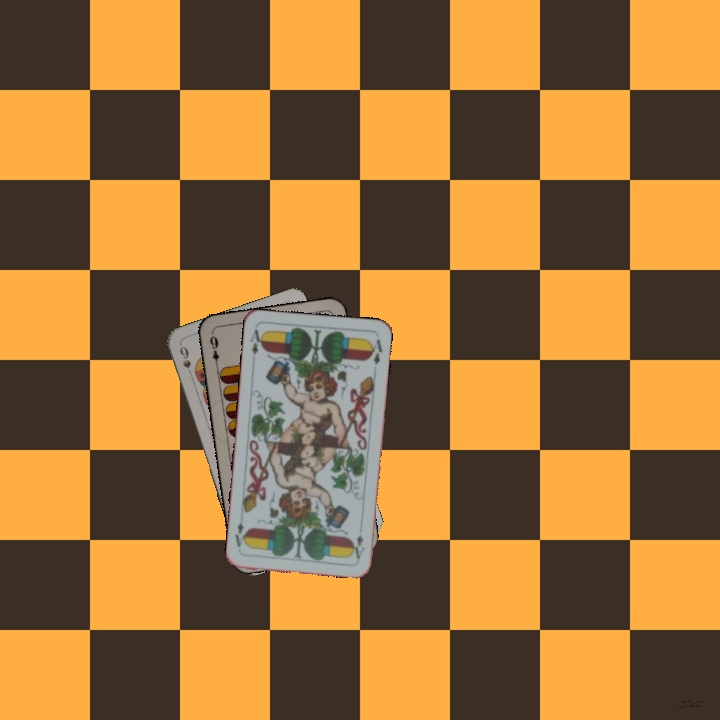E9: (205, 330, 221, 370)
EA: (246, 325, 266, 358), (350, 531, 367, 562)
S9: (176, 342, 195, 381)
